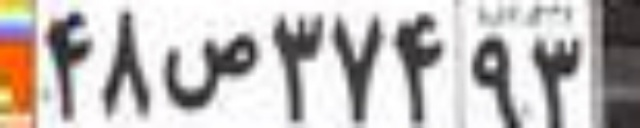3: (268, 12, 327, 122), (532, 36, 588, 127)
4: (393, 12, 453, 122)
5: (44, 10, 94, 120)
7: (331, 12, 383, 122)
8: (99, 11, 152, 116)
9: (468, 36, 519, 127)
saat: (163, 30, 257, 109)
